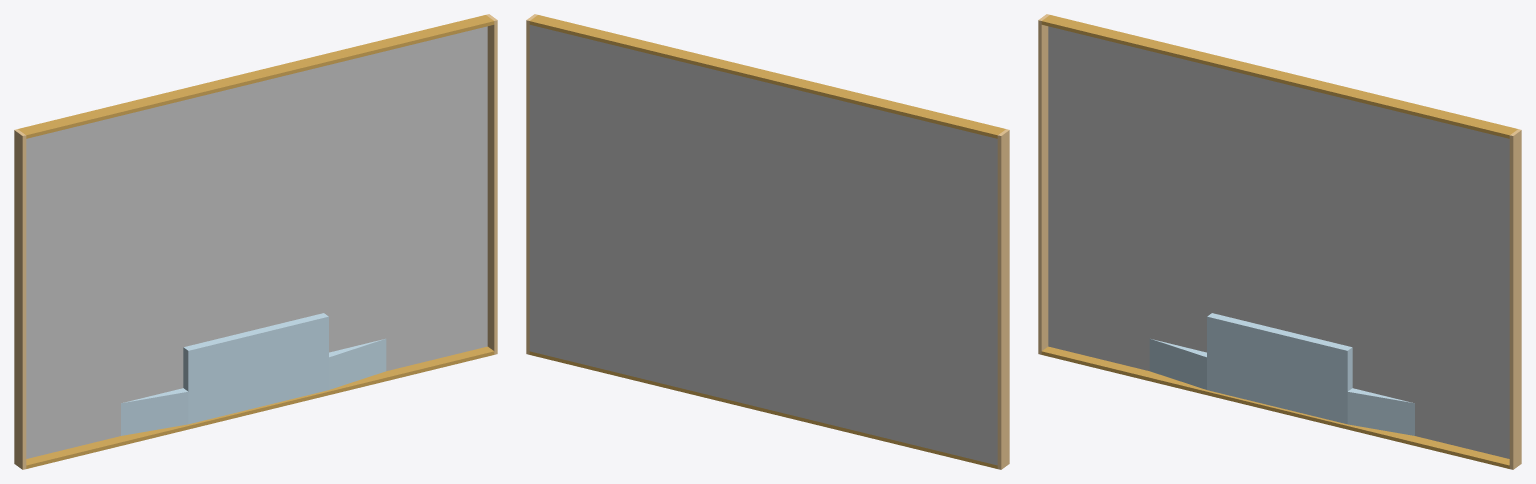
File: table.gltf
3 views of the same model, side by side, from view 1: azimuth 30°, elevation 25°; view 2: azimuth 150°, elevation 25°; view 3: azimuth 330°, elevation 25° (orthographic).
Parts seen in each view (by area): view 1: Planche, Part 1 (×3), Bordure (×4), Bordure long (×2); view 2: Planche, Bordure (×4), Bordure long (×2); view 3: Planche, Part 1 (×3), Bordure (×4), Bordure long (×2).
Part boxes in pixels (box(x1,y1,x2,y2)): Planche: box(26, 26, 487, 458); Part 1 (×3): box(121, 313, 386, 435); Bordure (×4): box(18, 15, 494, 468); Bordure long (×2): box(14, 14, 497, 469); Planche: box(529, 25, 997, 465); Bordure (×4): box(529, 15, 1005, 468); Bordure long (×2): box(526, 14, 1009, 469); Planche: box(1048, 26, 1509, 458); Part 1 (×3): box(1149, 313, 1414, 435); Bordure (×4): box(1041, 15, 1517, 468); Bordure long (×2): box(1038, 14, 1521, 469).
Size of the model in its own units: 3.04 by 2.04 by 0.095.
